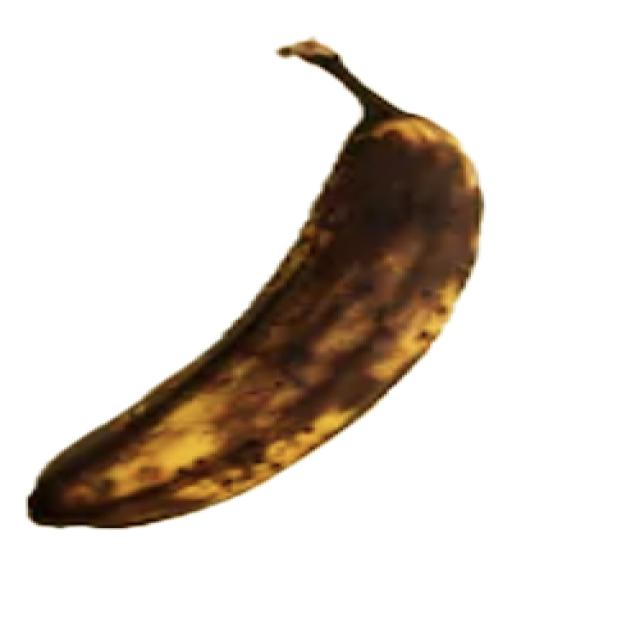rotten-banana: (23, 36, 484, 528)
